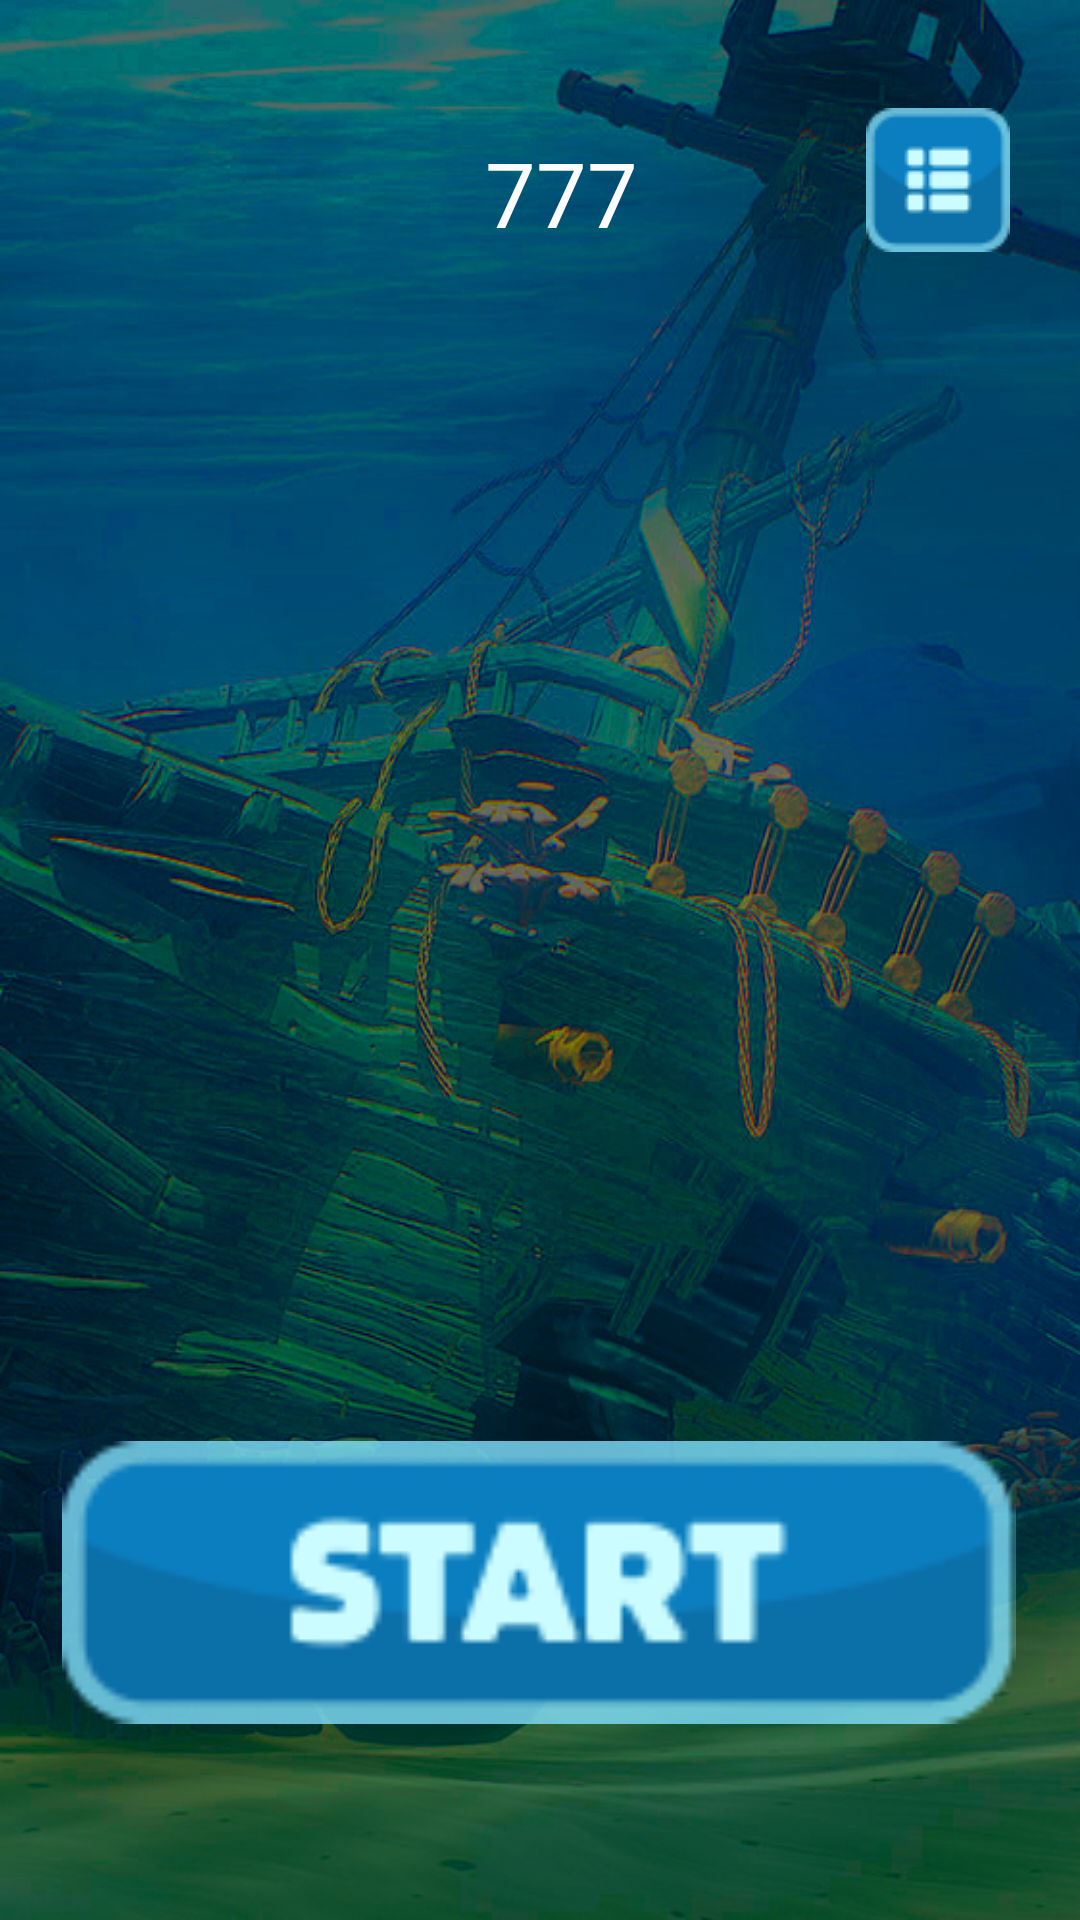

Point at icon controls on the screen. Image size 1080*1920, points as point (x, y).
menu: point (938, 180)
